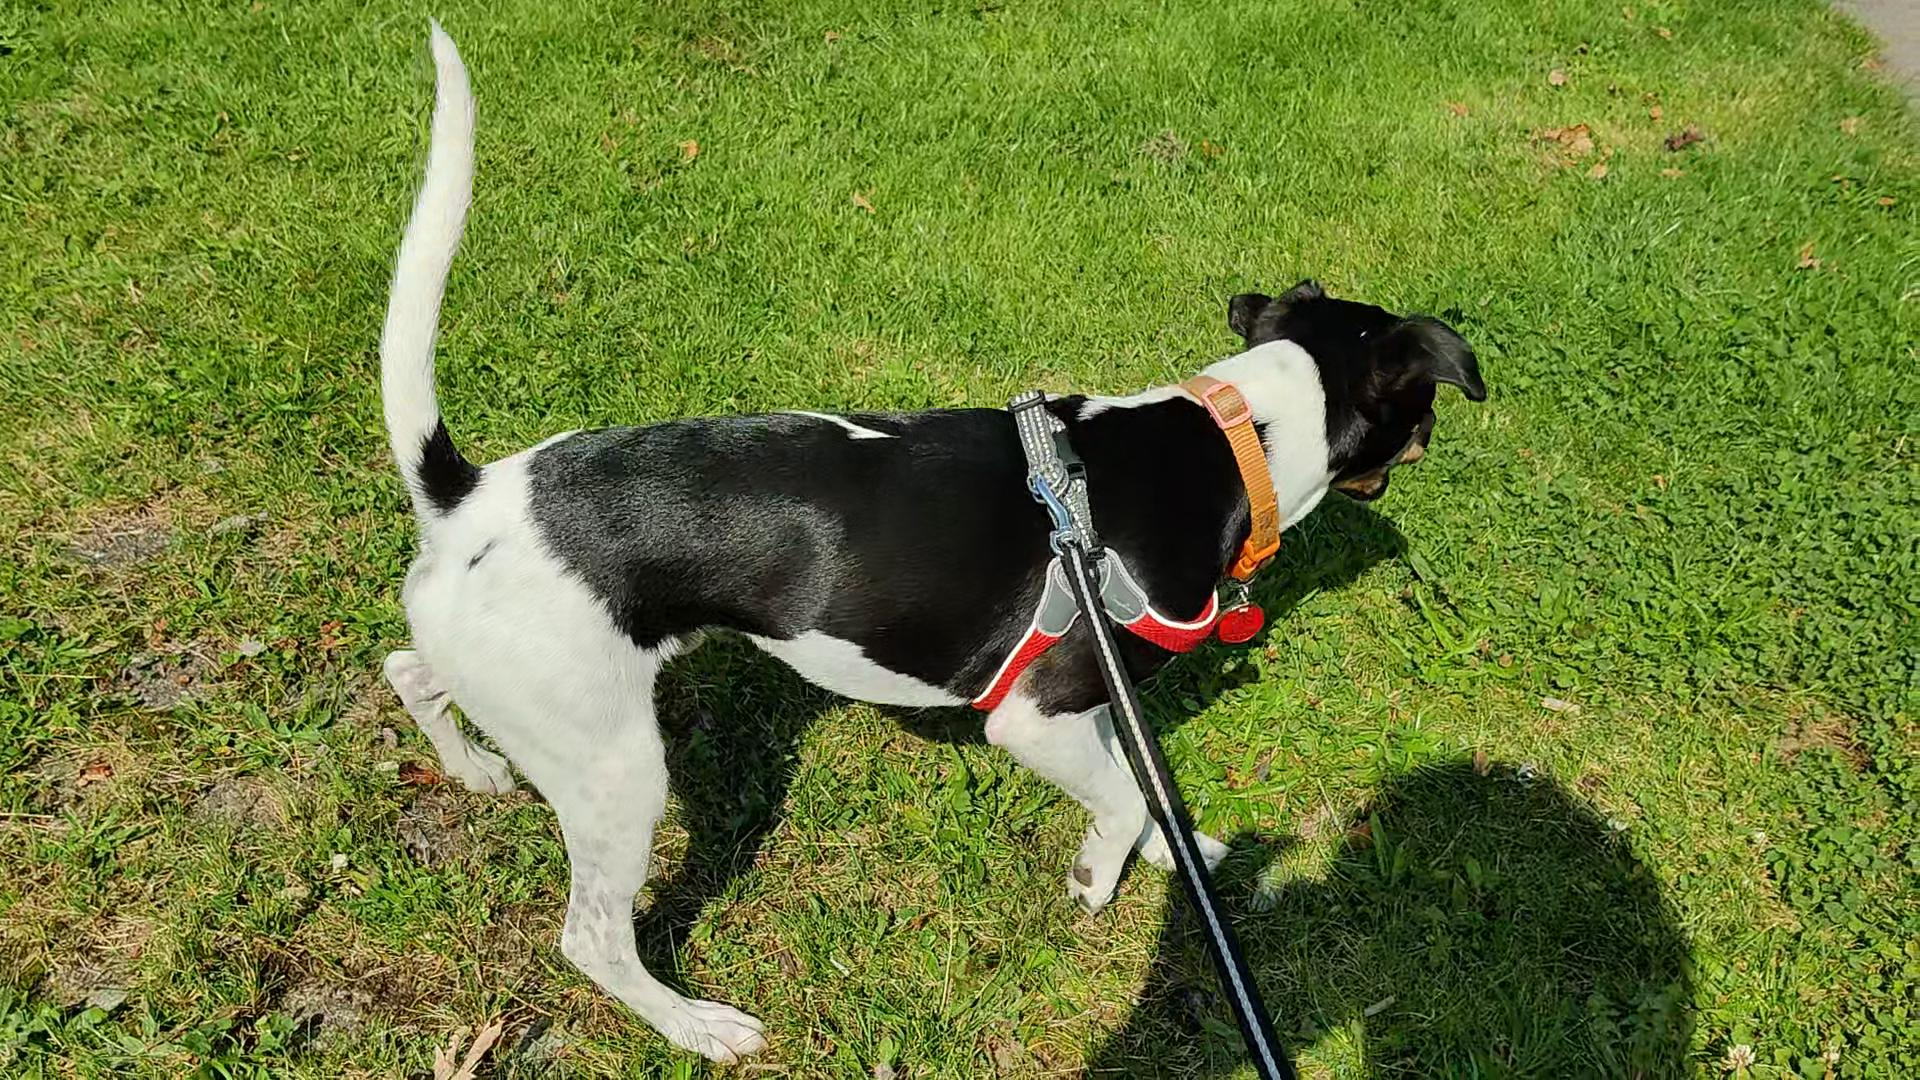Dog: (364, 8, 1490, 1069)
